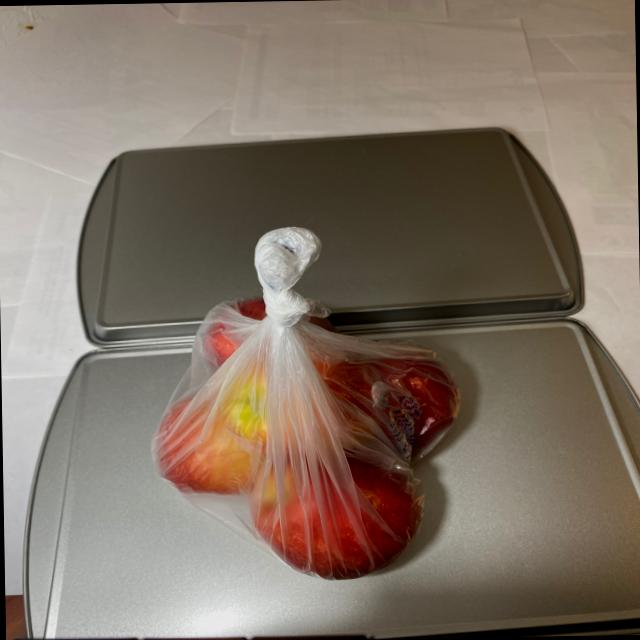apple: (144, 291, 468, 588)
